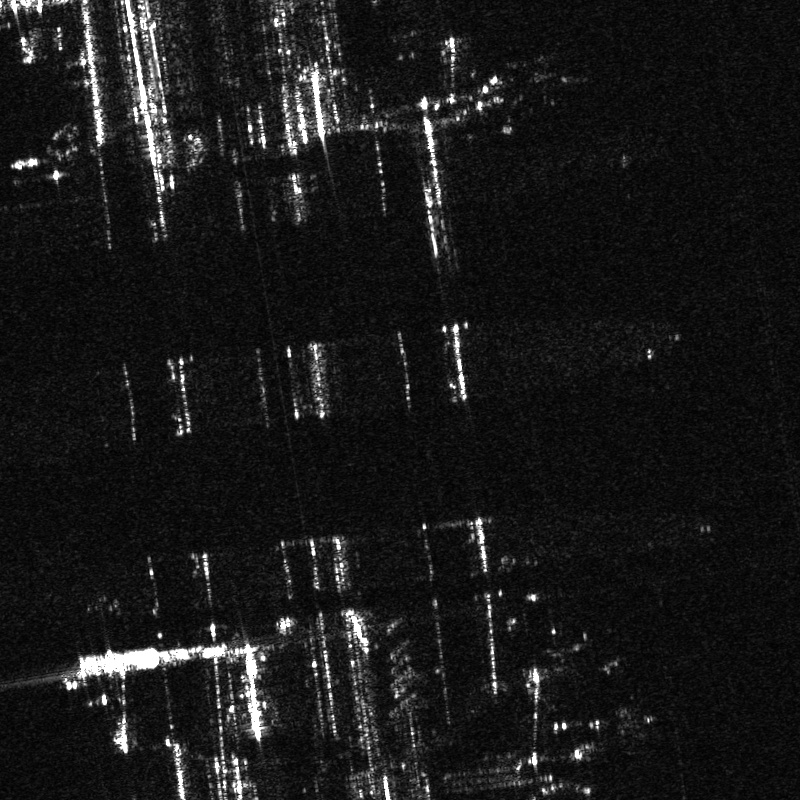Boeing737: (502, 50, 567, 108)
